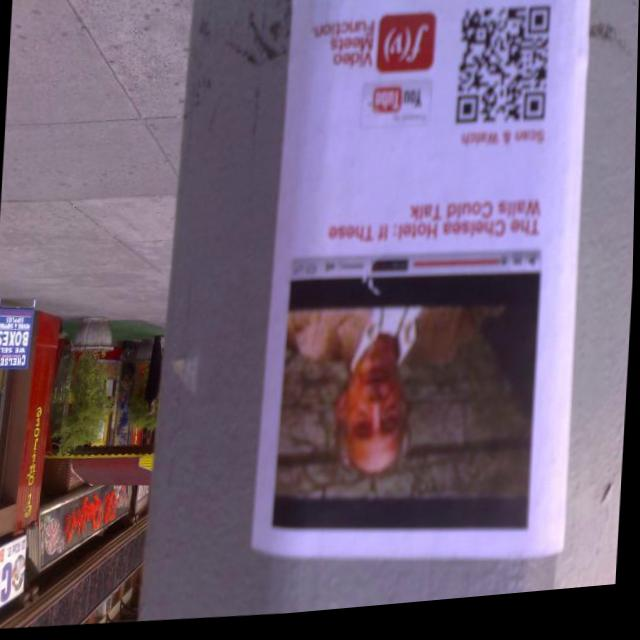qrcode: (457, 14, 550, 135)
